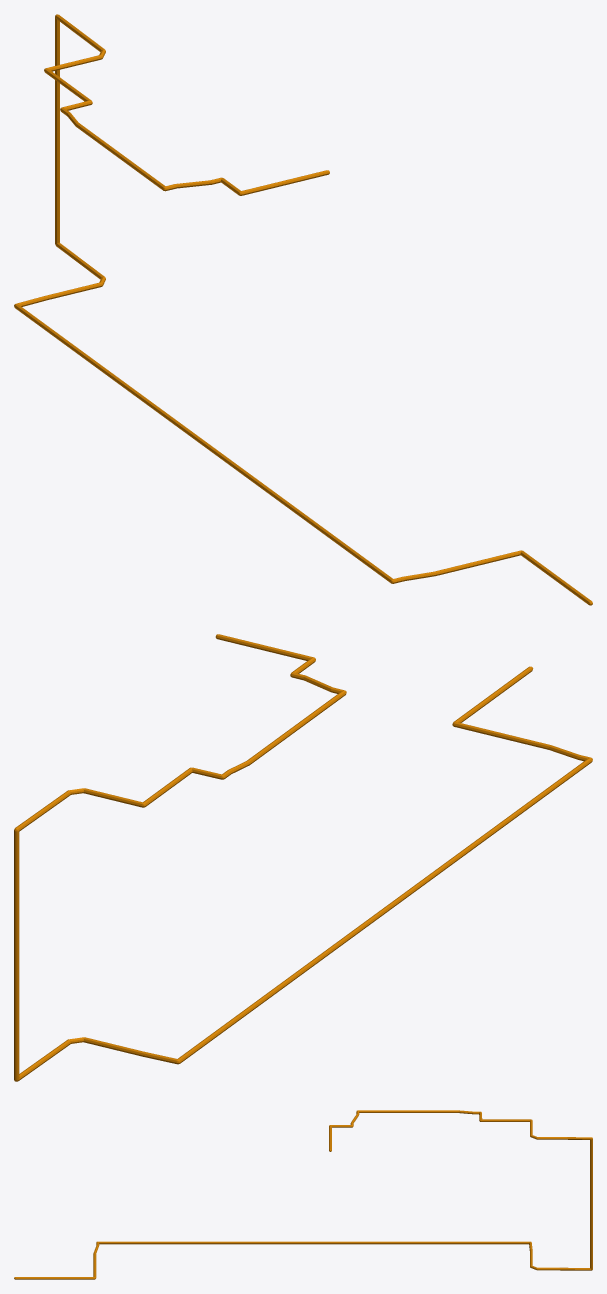
3 views of the same model, one above another, from view 1: azimuth 30°, elevation 25°; view 2: azimuth 150°, elevation 25°; view 3: azimuth 270°, elevation 25° (orthographic). The views are drawn at different scales.
Bounding box in the file's own units: 658 × 1020 × 4015.
